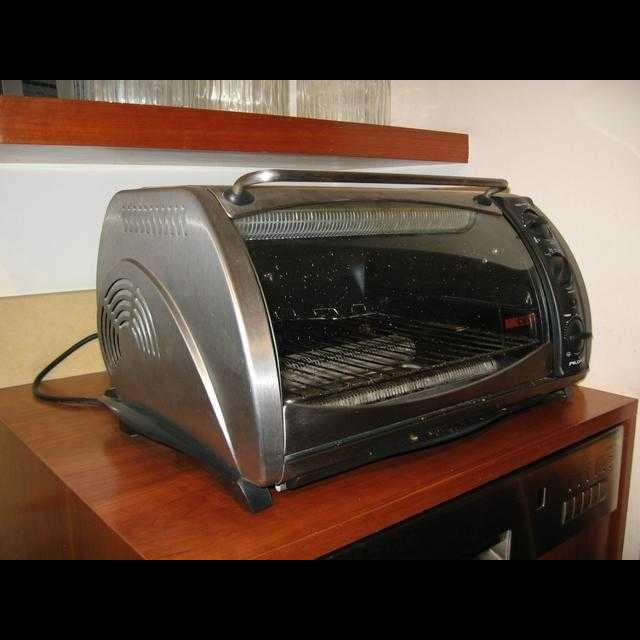Oven: (117, 170, 578, 464)
